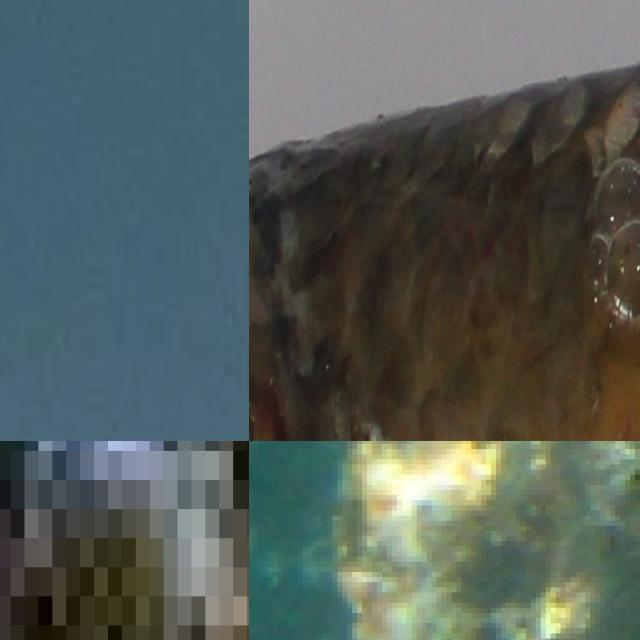fish: (249, 0, 640, 441), (0, 0, 249, 441), (0, 441, 249, 640)
